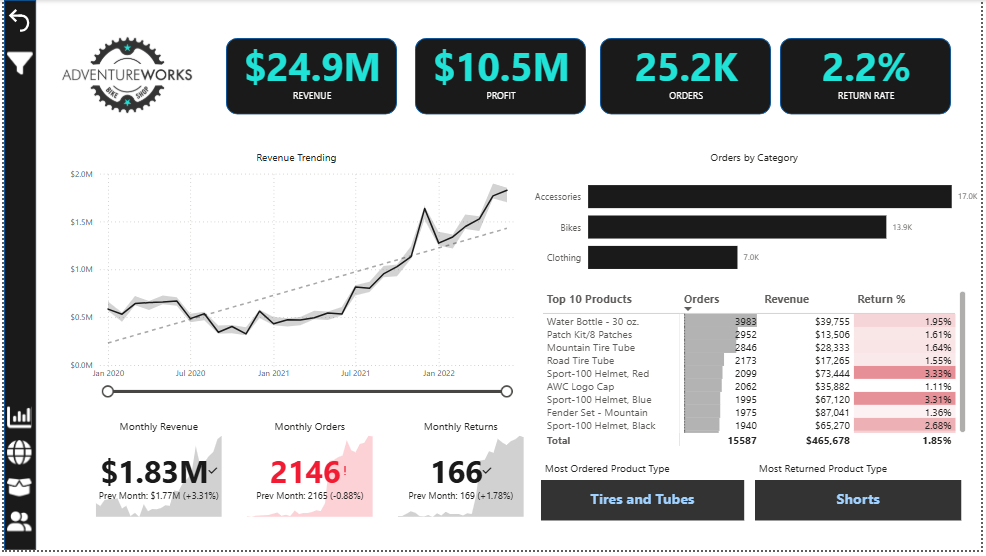

The page's visual inventory and layout, read from the dashboard file:
{"tool":"powerbi","page":{"name":"Exec Dashboard","canvas":[1280,720],"ordinal":0},"visuals":[{"type":"card","fields":{"Values":["Measure Table.Total revenue"]},"box":[296.2,35,212.5,113.8],"z":0,"group":"g2"},{"type":"image","title":"AW Logo","box":[57.5,35.2,207.5,126.2],"z":0},{"type":"group","id":"g1","title":"KPI Background","box":[290,49,948.8,100],"z":0,"group":"g3"},{"type":"shape","box":[1015,49,223.8,100],"z":0,"group":"g1"},{"type":"actionButton","box":[0,526.7,41.7,40],"z":0,"group":"g4"},{"type":"shape","title":"Left  Nav Background","box":[0,0,42,720],"z":1000},{"type":"group","id":"g2","title":"KPI VALUE","box":[296.2,35,937.5,113.8],"z":1000,"group":"g3"},{"type":"card","fields":{"Values":["Measure Table.Return Rate"]},"box":[1021.2,35,212.5,113.8],"z":1000,"group":"g2"},{"type":"shape","box":[290,49,223.8,100],"z":1000,"group":"g1"},{"type":"actionButton","box":[0,572.3,41.7,40],"z":1000,"group":"g4"},{"type":"group","id":"g3","title":"KPI's","box":[290,35,948.8,114],"z":2000},{"type":"card","fields":{"Values":["Measure Table.Total orders"]},"box":[786.2,35,212.5,113.8],"z":2000,"group":"g2"},{"type":"shape","box":[780,49,223.8,100],"z":2000,"group":"g1"},{"type":"actionButton","box":[0,663.4,41.7,40],"z":2000,"group":"g4"},{"type":"card","fields":{"Values":["Measure Table.Total Profit"]},"box":[543.7,35,212.5,113.8],"z":3000,"group":"g2"},{"type":"shape","box":[537.5,49,223.8,100],"z":3000,"group":"g1"},{"type":"lineChart","title":"Revenue Trending","fields":{"Y":["Measure Table.Total revenue"],"Category":["Calendar Lookup.Start of Month"]},"box":[81.7,196.7,603.3,326.7],"z":3000},{"type":"actionButton","box":[0,617.8,41.7,40],"z":3000,"group":"g4"},{"type":"kpi","title":"Monthly Revenue","fields":{"Indicator":["Measure Table.Total revenue"],"TrendLine":["Calendar Lookup.Start of Month"],"Goal":["Measure Table.Previous Month Revenue"]},"box":[115,548.3,175,133.3],"z":4000},{"type":"kpi","title":"Monthly Returns","fields":{"TrendLine":["Calendar Lookup.Start of Month"],"Indicator":["Measure Table.Total returns"],"Goal":["Measure Table.Previous Month Returns"]},"box":[510,548.3,175,133.3],"z":5000},{"type":"kpi","title":"Monthly Orders","fields":{"TrendLine":["Calendar Lookup.Start of Month"],"Indicator":["Measure Table.Total orders"],"Goal":["Measure Table.Orders in Previous Month"]},"box":[312.5,548.3,175,133.3],"z":6000},{"type":"clusteredBarChart","title":"Orders by Category","fields":{"Category":["Product Categories Lookup.CategoryName"],"Y":["Measure Table.Total orders"]},"box":[685,196.7,595,178.3],"z":7000},{"type":"pivotTable","fields":{"Rows":["Product Lookup.ProductName"],"Values":["Measure Table.Total orders","Measure Table.Total revenue","Measure Table.Return Rate"]},"box":[700,376.2,563.8,212.5],"z":8000},{"type":"card","fields":{"Values":["Min(Product Subcategories Lookup.SubcategoryName)"]},"box":[702.9,628.6,265.7,52.9],"z":9000},{"type":"textbox","box":[702.9,598.6,210,32.9],"z":10000},{"type":"card","fields":{"Values":["Min(Product Subcategories Lookup.SubcategoryName)"]},"box":[982.9,628.6,270,52.9],"z":11000},{"type":"textbox","box":[982.9,598.6,210,32.9],"z":12000},{"type":"actionButton","box":[0,7.1,41.4,40],"z":13000},{"type":"group","id":"g4","title":"Navigation Buttons","box":[0,526.7,41.7,176.7],"z":14000},{"type":"actionButton","box":[0,58.3,41.7,46.7],"z":15000}]}

Visuals, with their boxes on the page's 1280x720 design canvas (x1, y1, x2, y2). These are canvas units, not pixel positions in the 986x556 screenshot, which may show the page scaled, cropped or inside an application window:
card - Measure Table.Total revenue: box(296, 35, 509, 149)
"AW Logo" image: box(58, 35, 265, 161)
"KPI Background" group: box(290, 49, 1239, 149)
shape: box(1015, 49, 1239, 149)
actionButton: box(0, 527, 42, 567)
"Left  Nav Background" shape: box(0, 0, 42, 720)
"KPI VALUE" group: box(296, 35, 1234, 149)
card - Measure Table.Return Rate: box(1021, 35, 1234, 149)
shape: box(290, 49, 514, 149)
actionButton: box(0, 572, 42, 612)
"KPI's" group: box(290, 35, 1239, 149)
card - Measure Table.Total orders: box(786, 35, 999, 149)
shape: box(780, 49, 1004, 149)
actionButton: box(0, 663, 42, 703)
card - Measure Table.Total Profit: box(544, 35, 756, 149)
shape: box(538, 49, 761, 149)
"Revenue Trending" lineChart: box(82, 197, 685, 523)
actionButton: box(0, 618, 42, 658)
"Monthly Revenue" kpi: box(115, 548, 290, 682)
"Monthly Returns" kpi: box(510, 548, 685, 682)
"Monthly Orders" kpi: box(312, 548, 488, 682)
"Orders by Category" clusteredBarChart: box(685, 197, 1280, 375)
pivotTable - Product Lookup.ProductName x Measure Table.Total orders: box(700, 376, 1264, 589)
card - Min(Product Subcategories Lookup.SubcategoryName): box(703, 629, 969, 682)
textbox: box(703, 599, 913, 632)
card - Min(Product Subcategories Lookup.SubcategoryName): box(983, 629, 1253, 682)
textbox: box(983, 599, 1193, 632)
actionButton: box(0, 7, 41, 47)
"Navigation Buttons" group: box(0, 527, 42, 703)
actionButton: box(0, 58, 42, 105)
